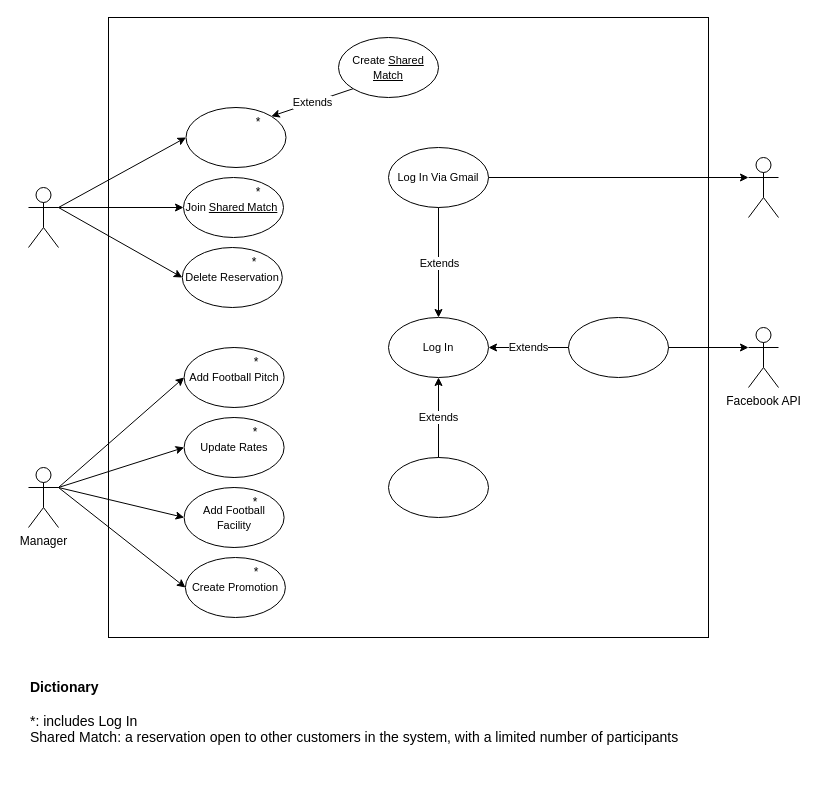
This 818x795 diagram has some shape labels left out. Here are the shapes that lost their labels. From the top down, the box of each, then its label:
(185, 106, 286, 168): Book Football Pitch
(748, 156, 778, 218): Google API
(28, 186, 58, 248): Customer
(568, 316, 668, 378): Log In Via Facebook
(388, 456, 488, 518): Create Account
